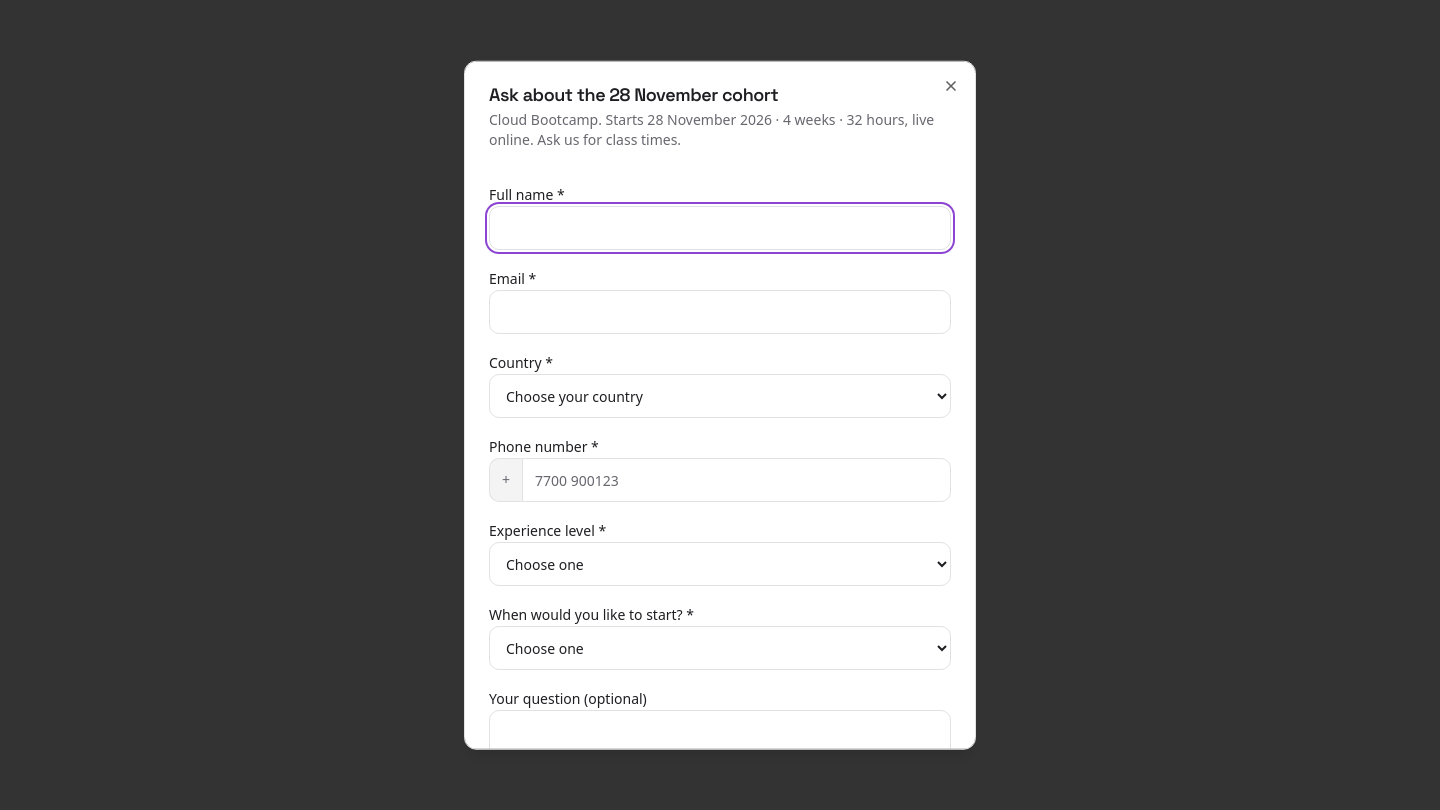
Scenario: Cloud cohort enquiry › rejects an invalid phone number without saving or tracking
Type "Ada Test" into the field labelled "Full name *".
click(720, 228); type("Ada Test")  # box [489,206,951,250]
Type "ada@example.test" into the field labelled "Email *".
click(720, 312); type("ada@example.test")  # box [489,290,951,334]
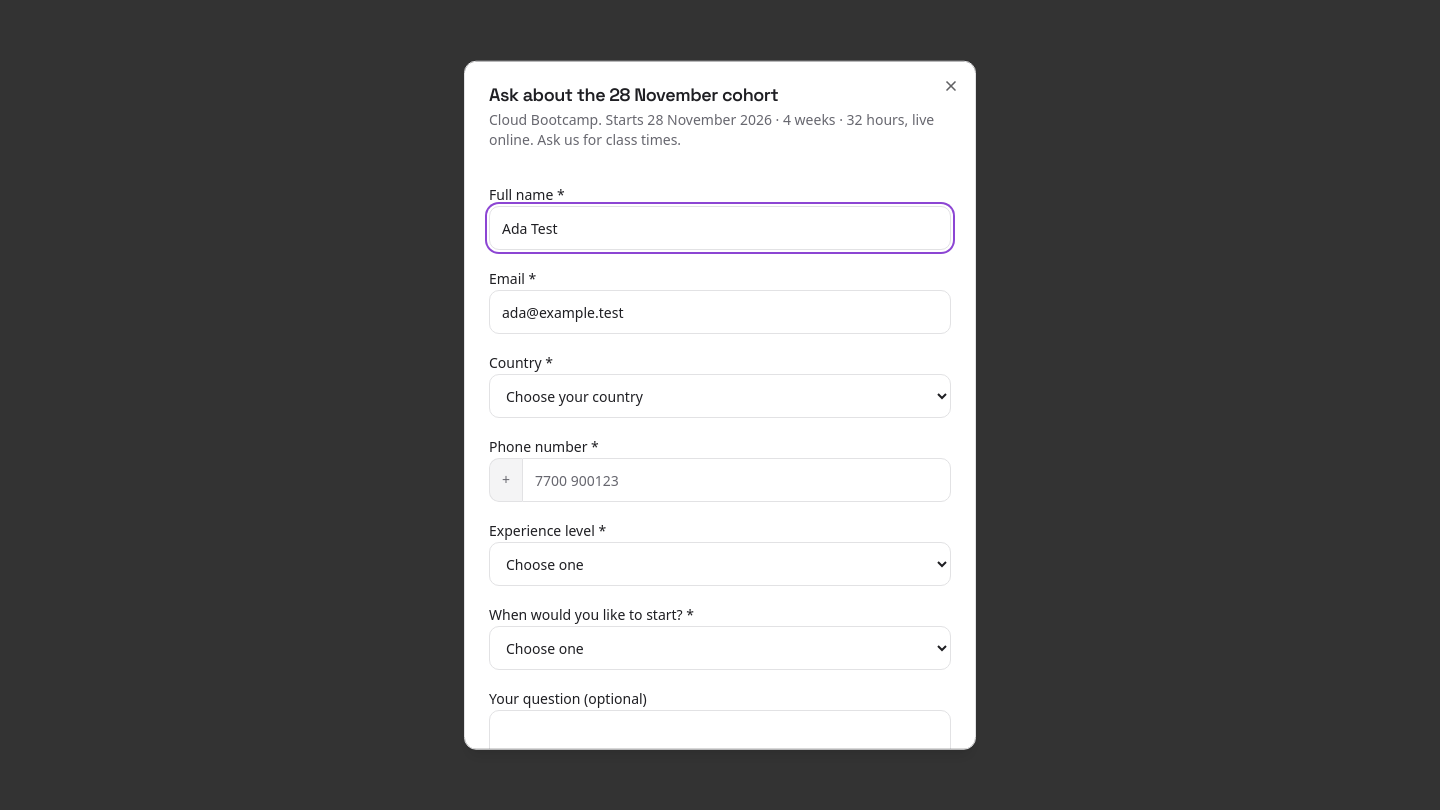
Type "12" into the field labelled "Phone number *".
click(736, 480); type("12")  # box [522,458,951,502]
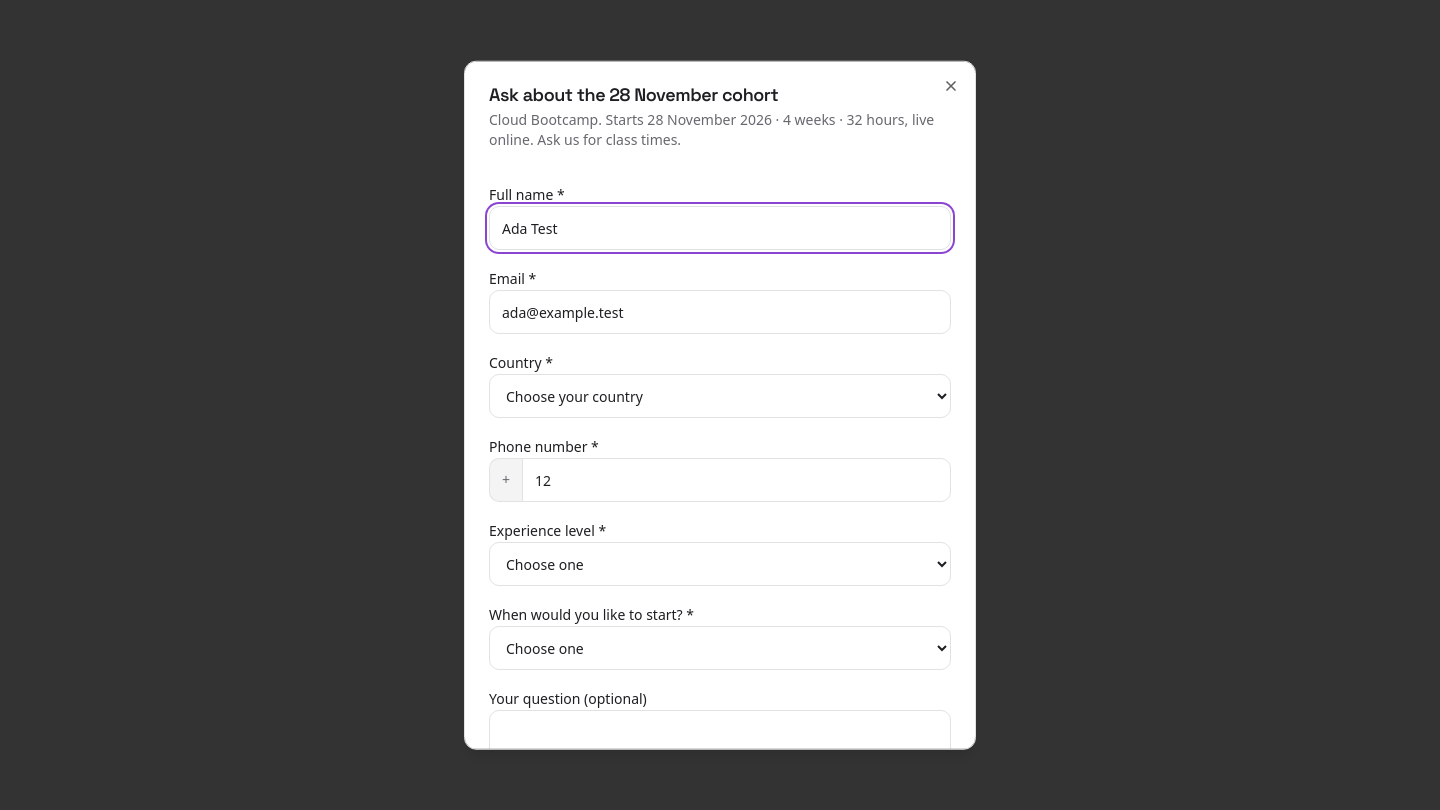
Select "Nigeria (+234)" in the dropdown labelled "Country *" at (720, 396), box [489,374,951,418]
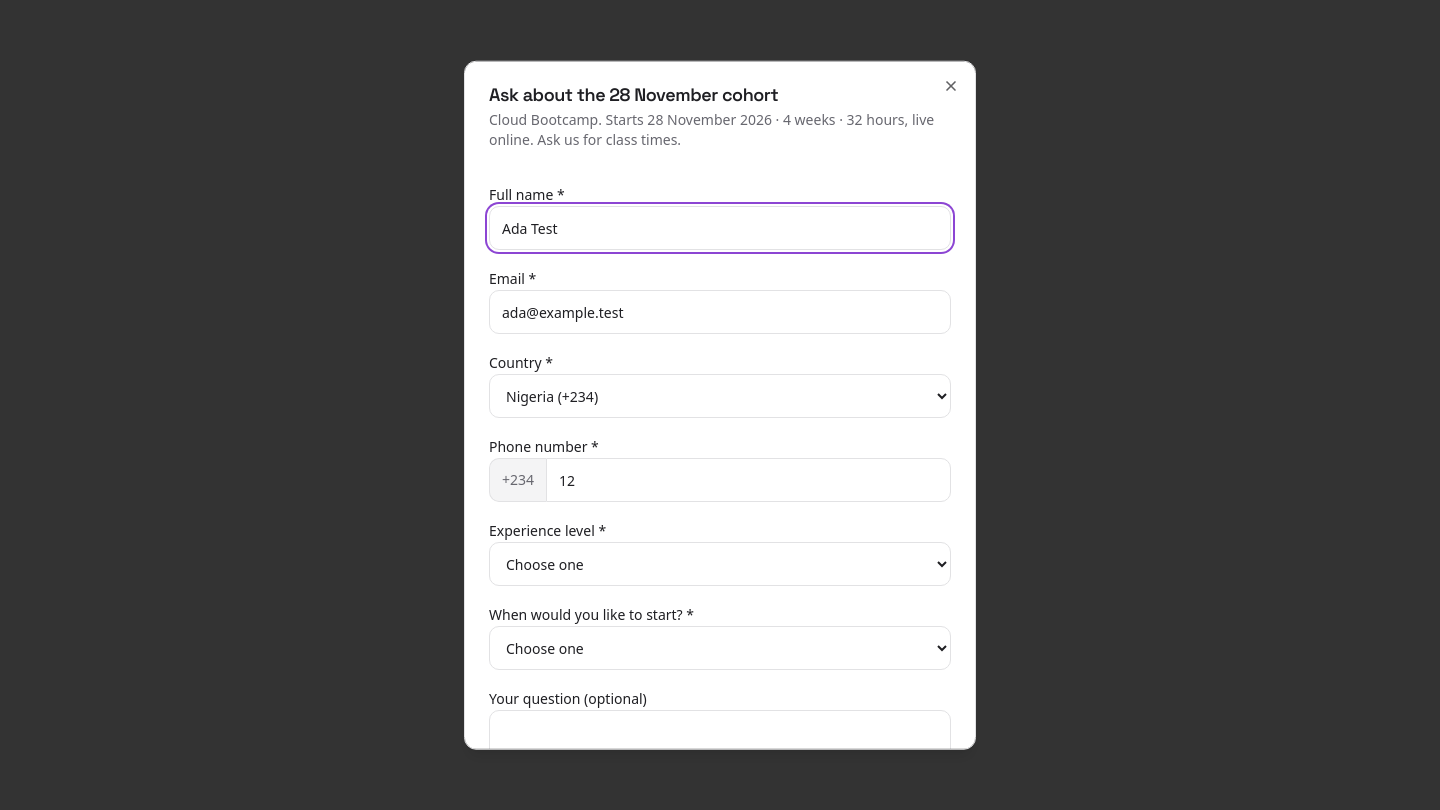
Select "Beginner / career changer" in the dropdown labelled "Experience level *" at (720, 564), box [489,542,951,586]
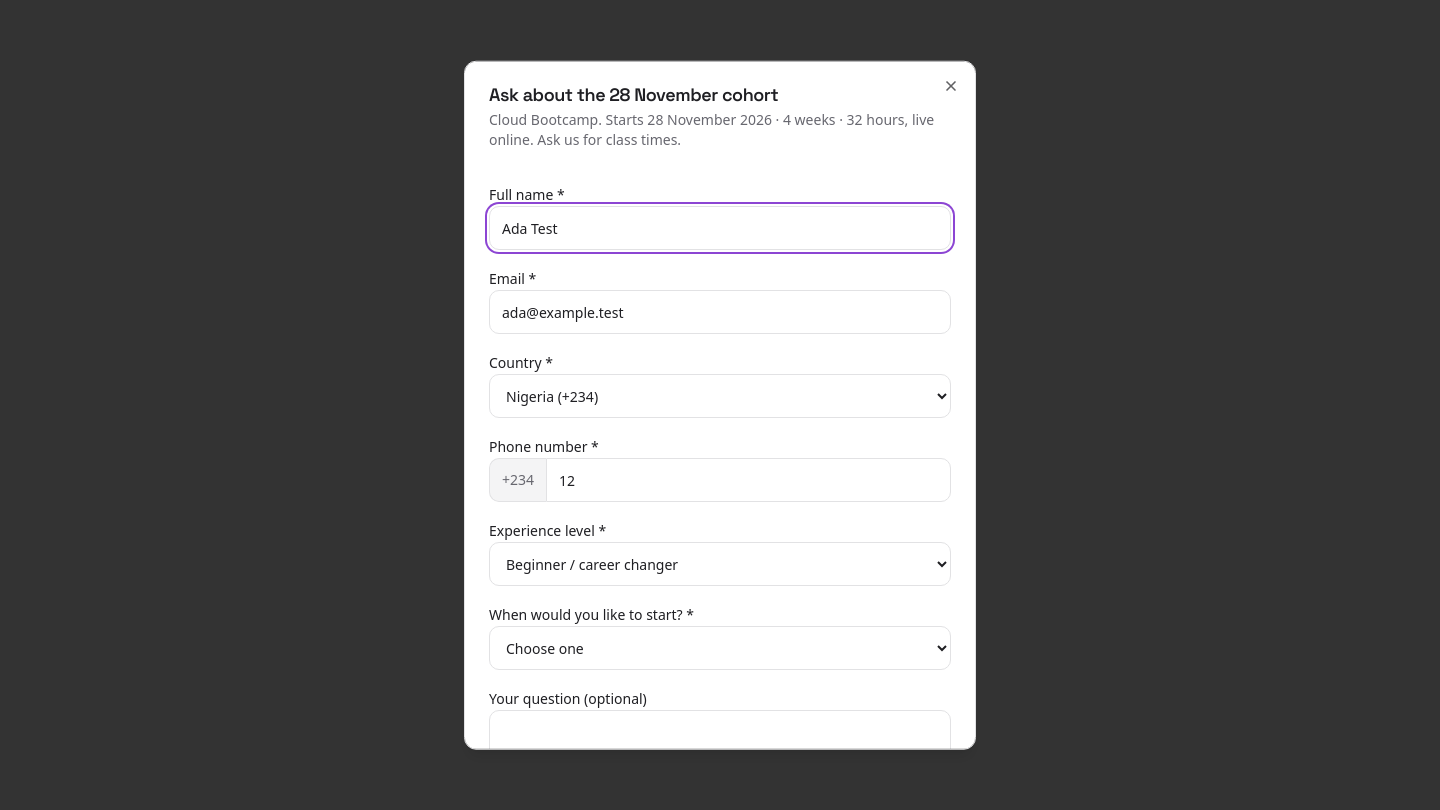
Select "28 November 2026" in the dropdown labelled "When would you like to start? *" at (720, 648), box [489,626,951,670]
(page scrolled)
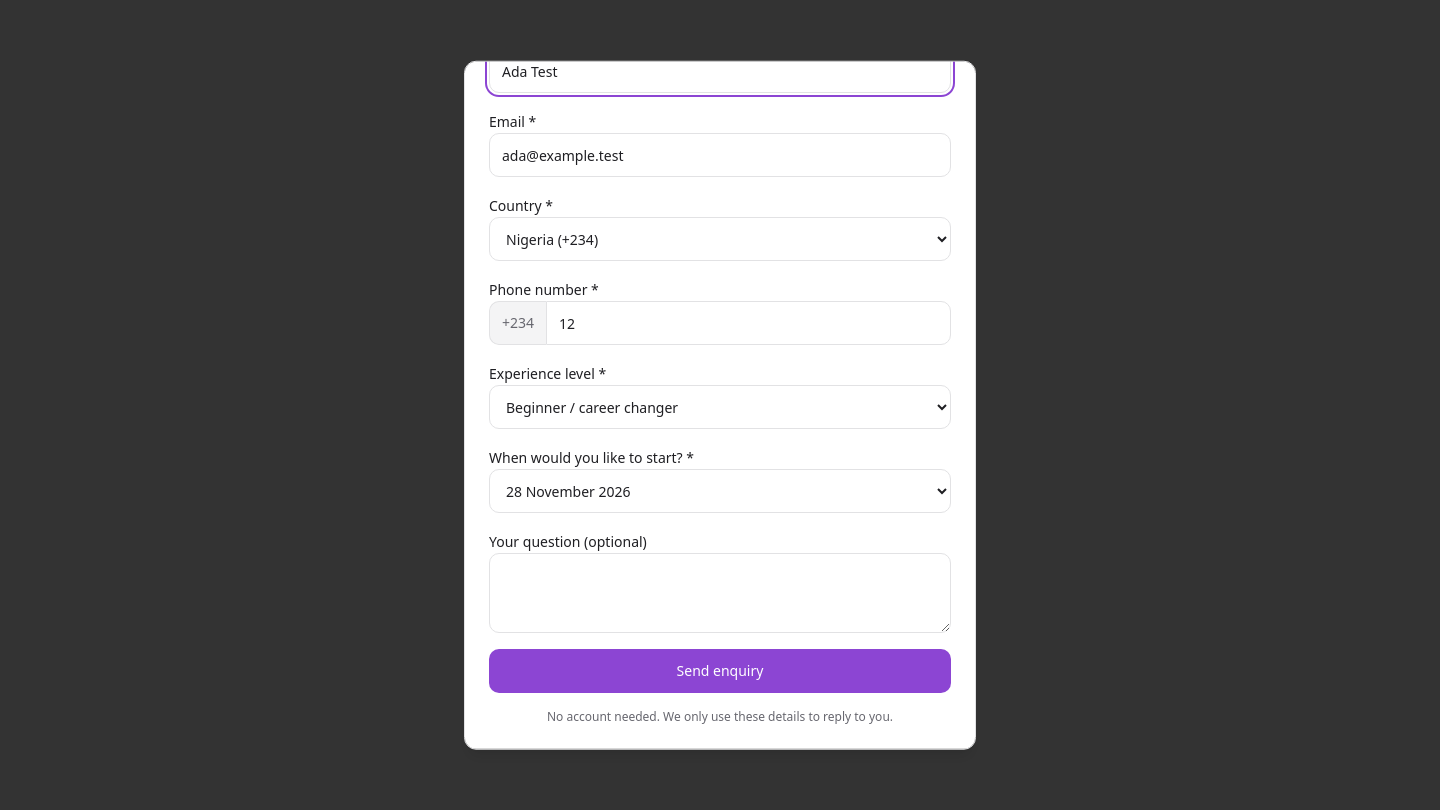
Click the button "Send enquiry".
click(720, 671)  # box [489,649,951,693]
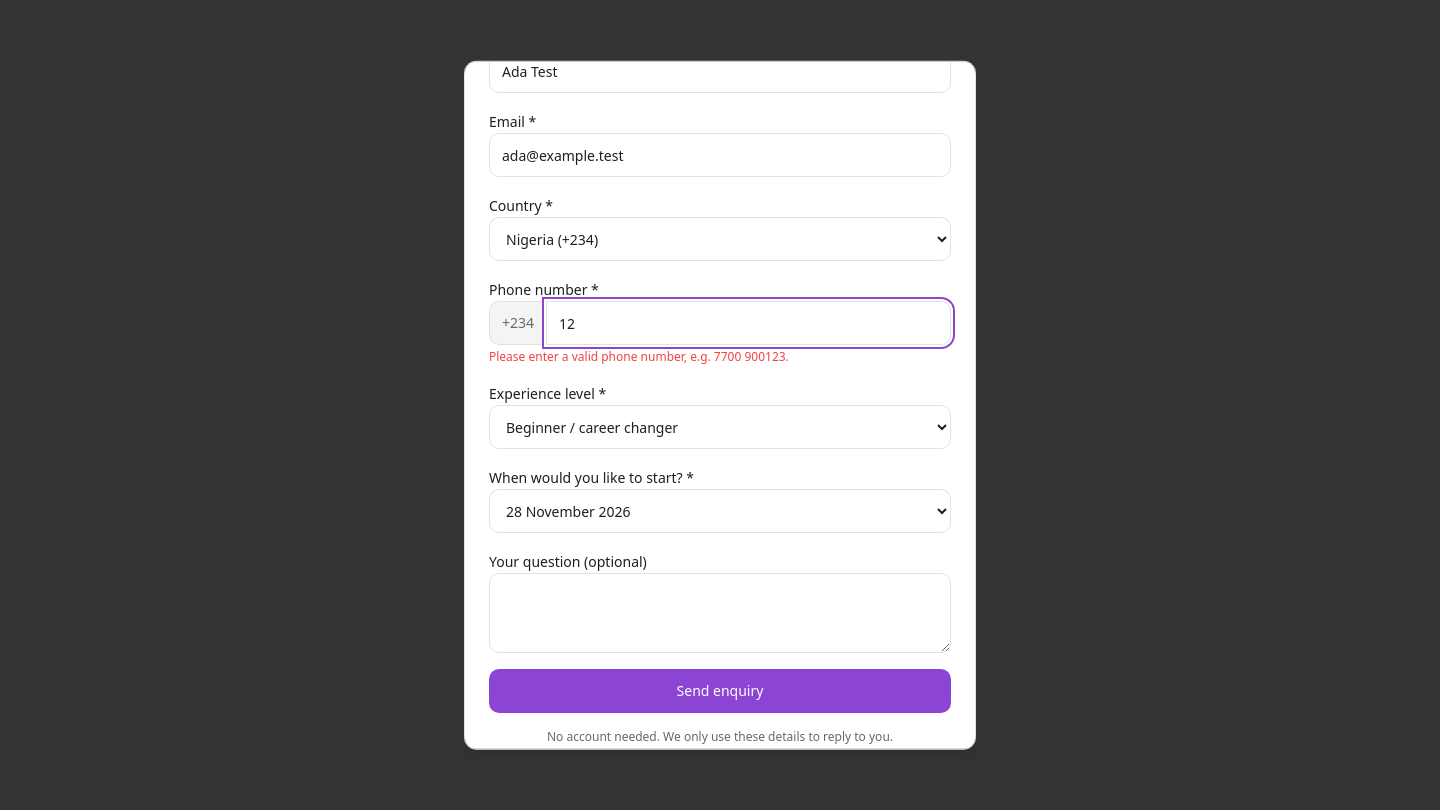
Result: the text "Please enter a valid phone number, e.g. 7700 900123." is shown at [489,348,789,365]
